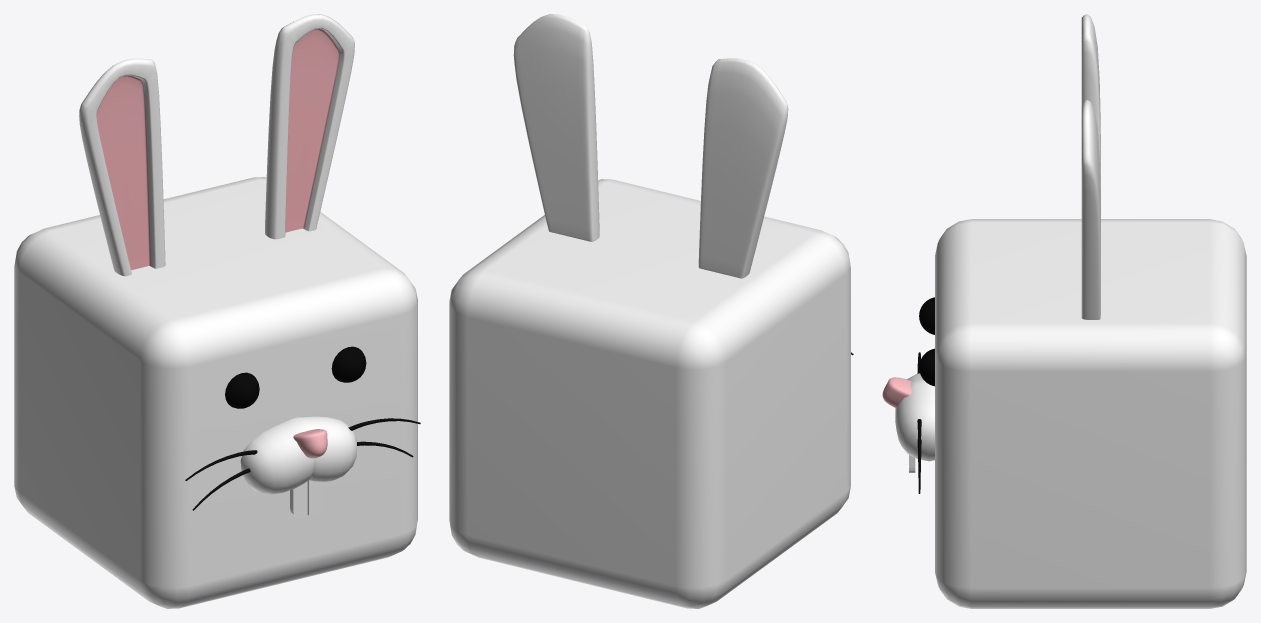
Rendered from Rabbit.fbx.
The picture shows the model from 3 angles, left to right: view 1: azimuth 30°, elevation 25°; view 2: azimuth 150°, elevation 25°; view 3: azimuth 270°, elevation 25°; orthographic projection.
Parts seen in each view (by area): view 1: Rabbit; view 2: Rabbit; view 3: Rabbit.
Boxes of the visible parts, x1,y1,x2,y2 form: Rabbit: (14, 14, 420, 608); Rabbit: (449, 14, 853, 608); Rabbit: (882, 14, 1246, 608).
Size of the model in its own units: 1 by 1.75 by 1.17.
